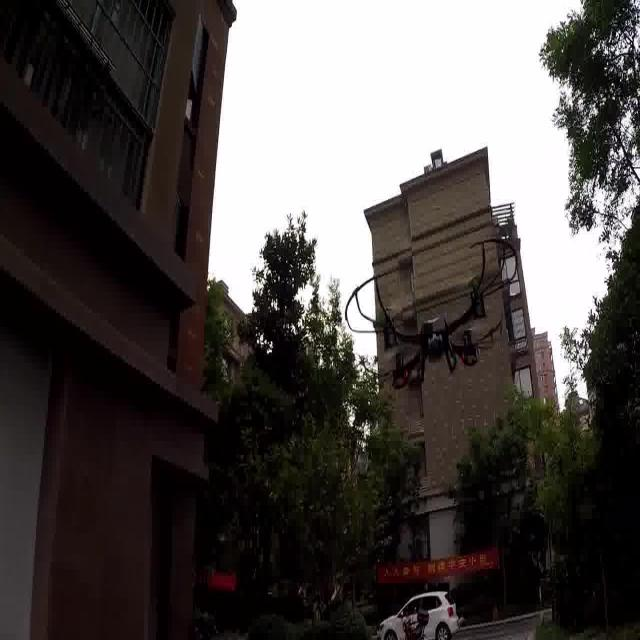drone: (344, 252, 524, 390)
